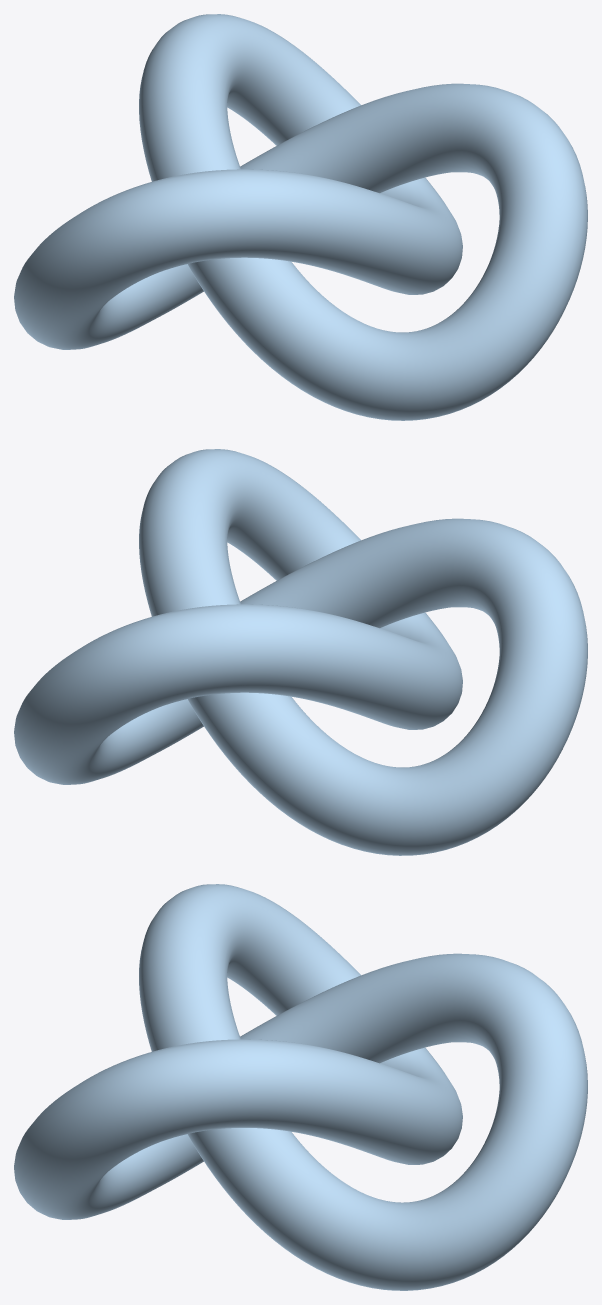
The picture shows the model from 3 angles, top to bottom: view 1: azimuth 30°, elevation 25°; view 2: azimuth 150°, elevation 25°; view 3: azimuth 270°, elevation 25°; orthographic projection.
Parts seen in each view (by area): view 1: TorusKnot; view 2: TorusKnot; view 3: TorusKnot.
Part boxes in pixels (x1,y1,x2,y2): TorusKnot: (14, 14, 587, 420); TorusKnot: (14, 449, 587, 855); TorusKnot: (14, 884, 587, 1290).
Bounding box in the file's own units: 6.06 × 3 × 6.47.
